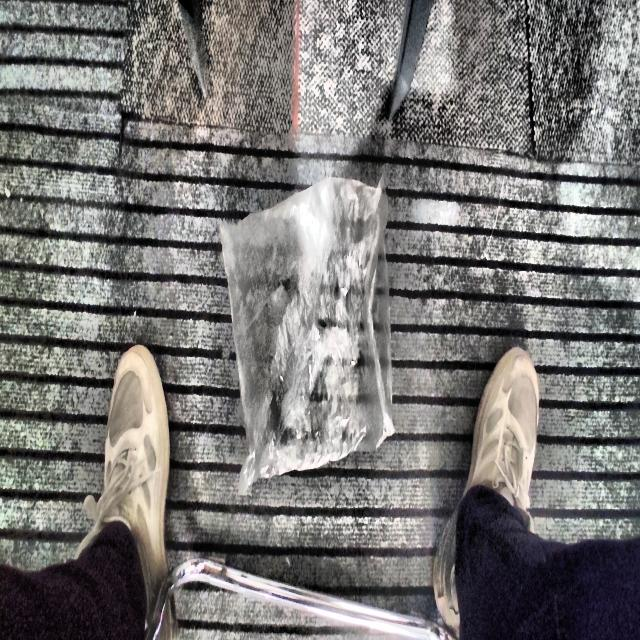plastic bag: (221, 178, 394, 494)
